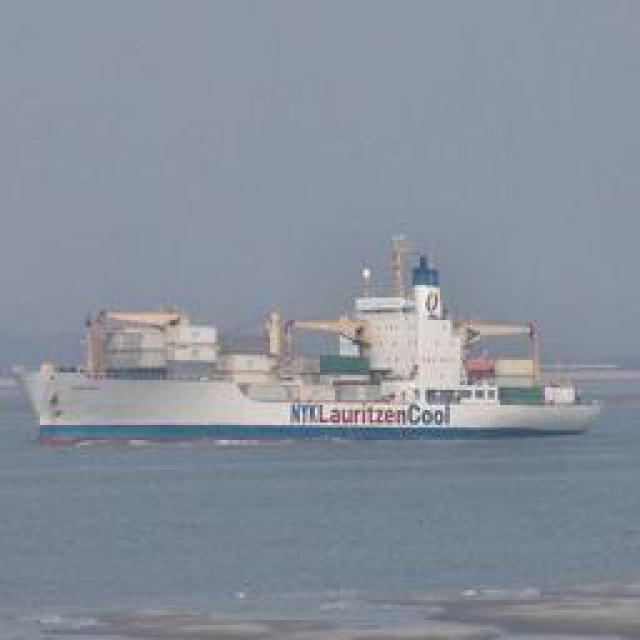Ship: (37, 250, 595, 443)
